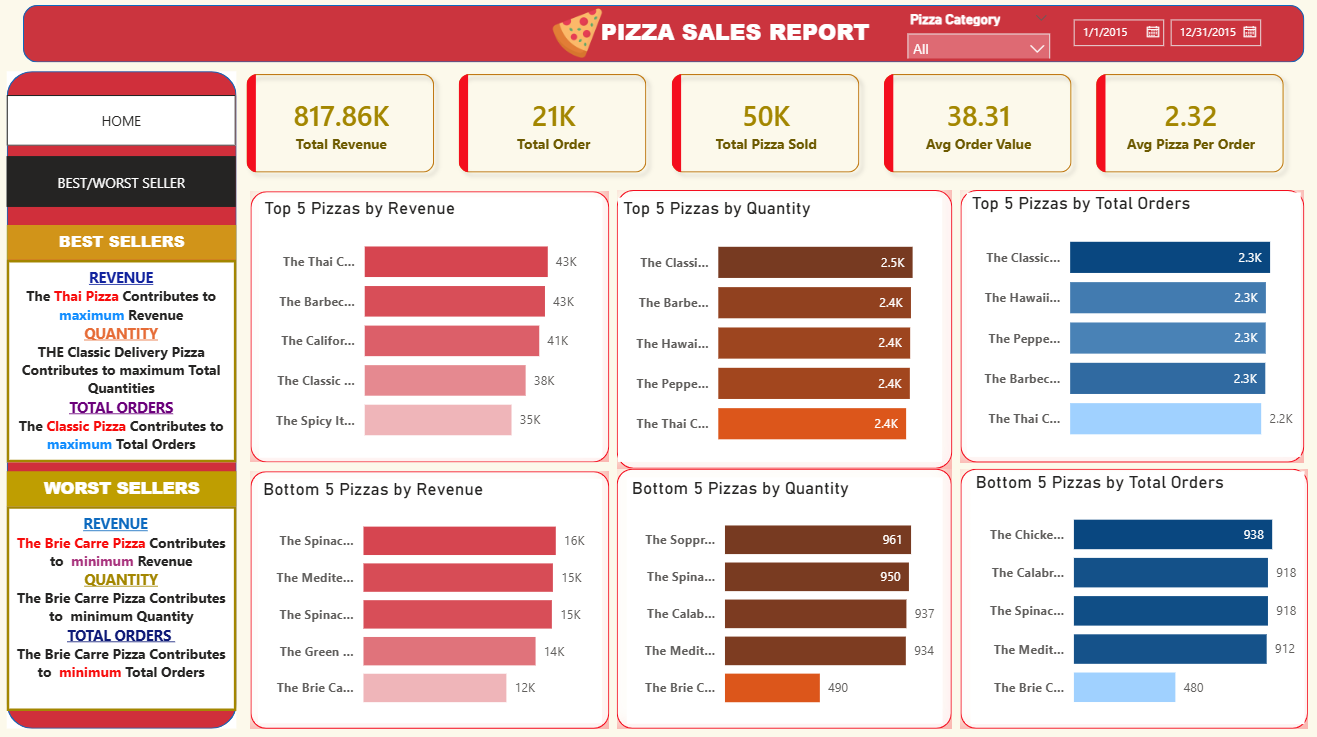

The dashboard page shown, as its layout file describes it:
{"tool":"powerbi","page":{"name":"BEST/WORST SELLER","canvas":[1280,720],"ordinal":1},"visuals":[{"type":"shape","box":[8.4,73.6,222,634.6],"z":0},{"type":"cardVisual","fields":{"Data":["pizza_sales.Total Revenue","pizza_sales.Total Order","pizza_sales.Total Pizza Sold","pizza_sales.Average Order Value","pizza_sales.Avg Pizza Per Order"]},"box":[203.9,55.5,1076.1,132.7],"z":1000},{"type":"shape","box":[24.1,9.7,1236.6,55.5],"z":2000},{"type":"textbox","box":[576.7,15.7,281.1,39.8],"z":3000},{"type":"image","box":[520,12.1,78.4,49.5],"z":4000},{"type":"shape","box":[243.7,189.4,346.2,261.8],"z":5000},{"type":"shape","box":[929,188.2,331.8,263],"z":6000},{"type":"shape","box":[597.2,457.2,323.3,250.9],"z":7000},{"type":"shape","box":[243.7,459.7,346.2,248.5],"z":8000},{"type":"shape","box":[929,457.2,335.4,250.9],"z":9000},{"type":"textbox","box":[8.4,222,222,33.8],"z":10000},{"type":"textbox","box":[8.4,255.8,222,195.4],"z":11000},{"type":"textbox","box":[8.4,493.4,222,197.9],"z":12000},{"type":"textbox","box":[8.4,459.7,222,33.8],"z":13000},{"type":"slicer","fields":{"Values":["pizza_sales.pizza_category"]},"box":[867.4,10.9,158,50.7],"z":14000},{"type":"slicer","fields":{"Values":["pizza_sales.order_date"]},"box":[1025.5,13.3,231.6,48.3],"z":15000},{"type":"shape","box":[596.9,188,323.8,269],"z":16000},{"type":"barChart","title":"Top 5 Pizzas by Revenue","fields":{"Y":["pizza_sales.Total Revenue"],"Category":["pizza_sales.pizza_name"]},"box":[252.1,195.4,331,251],"z":17000},{"type":"barChart","title":"Bottom 5 Pizzas by Revenue","fields":{"Y":["pizza_sales.Total Revenue"],"Category":["pizza_sales.pizza_name"]},"box":[250.9,466.9,331.8,236],"z":18000},{"type":"barChart","title":"Top 5 Pizzas by Quantity","fields":{"Y":["pizza_sales.Total Pizza Sold"],"Category":["pizza_sales.pizza_name"]},"box":[598.3,194.9,312.9,255.2],"z":19000},{"type":"barChart","title":"Bottom 5 Pizzas by Quantity","fields":{"Y":["pizza_sales.Total Pizza Sold"],"Category":["pizza_sales.pizza_name"]},"box":[606.5,465.2,304.6,237.4],"z":20000},{"type":"barChart","title":"Top 5 Pizzas by Total Orders","fields":{"Y":["pizza_sales.Total Order"],"Category":["pizza_sales.pizza_name"]},"box":[934.5,190.7,322.5,255.2],"z":21000},{"type":"barChart","title":"Bottom  5 Pizzas by Total Orders","fields":{"Y":["pizza_sales.Total Order"],"Category":["pizza_sales.pizza_name"]},"box":[938.6,459.7,322.1,243.7],"z":22000},{"type":"pageNavigator","box":[8.4,155.6,222,49.5],"z":23000},{"type":"pageNavigator","box":[8.4,96.5,222,49.5],"z":24000}]}

Visuals, with their boxes in screenshot pixels (x1, y1, x2, y2), scaled from the page's 1280x720 canvas onto the 1317x737 screenshot:
shape: (9,75,237,725)
cardVisual - pizza_sales.Total Revenue x pizza_sales.Total Order: (210,57,1316,193)
shape: (25,10,1297,67)
textbox: (593,16,883,57)
image: (535,12,616,63)
shape: (251,194,607,462)
shape: (956,193,1297,462)
shape: (614,468,947,725)
shape: (251,471,607,725)
shape: (956,468,1301,725)
textbox: (9,227,237,262)
textbox: (9,262,237,462)
textbox: (9,505,237,708)
textbox: (9,471,237,505)
slicer - pizza_sales.pizza_category: (892,11,1055,63)
slicer - pizza_sales.order_date: (1055,14,1293,63)
shape: (614,192,947,468)
"Top 5 Pizzas by Revenue" barChart: (259,200,600,457)
"Bottom 5 Pizzas by Revenue" barChart: (258,478,600,719)
"Top 5 Pizzas by Quantity" barChart: (616,200,938,461)
"Bottom 5 Pizzas by Quantity" barChart: (624,476,937,719)
"Top 5 Pizzas by Total Orders" barChart: (962,195,1293,456)
"Bottom  5 Pizzas by Total Orders" barChart: (966,471,1297,720)
pageNavigator: (9,159,237,210)
pageNavigator: (9,99,237,149)
